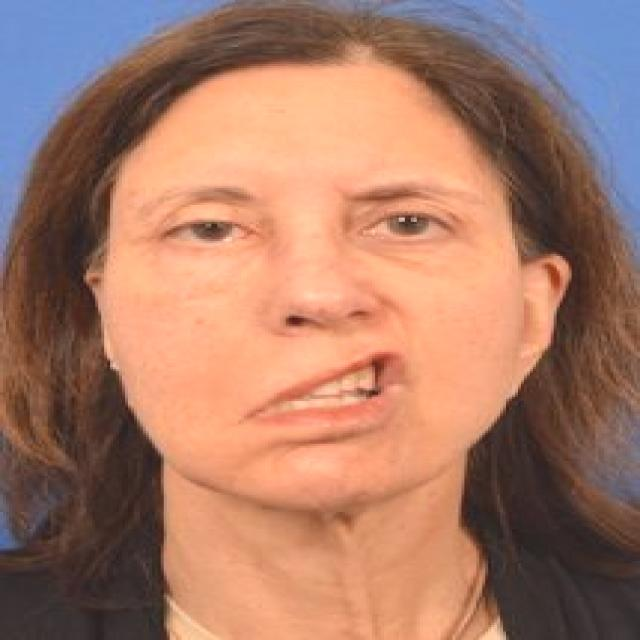stroke_face: (72, 6, 577, 508)
